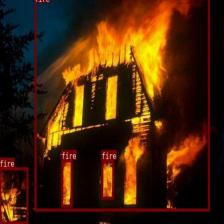fire: (34, 0, 209, 211), (0, 167, 28, 224), (61, 159, 72, 206), (102, 159, 114, 198)
